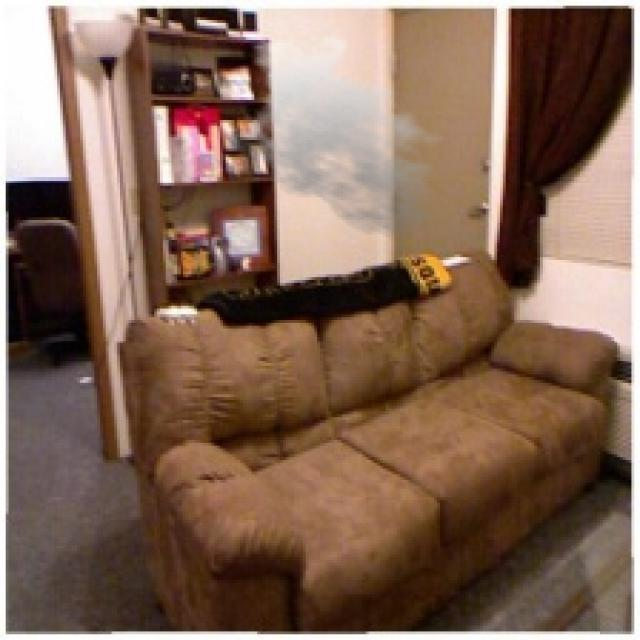Smoke: (240, 34, 454, 240)
